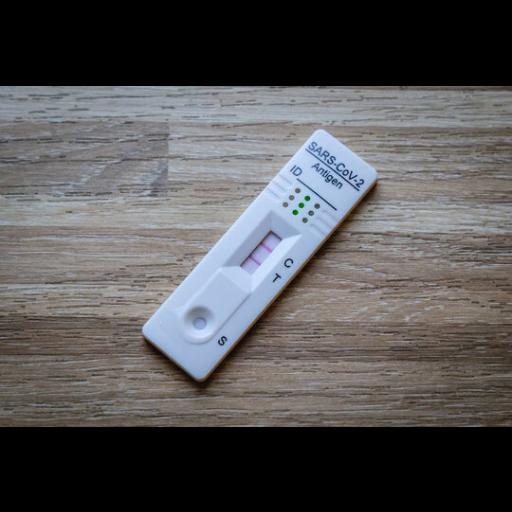Pos: (140, 128, 379, 381)
